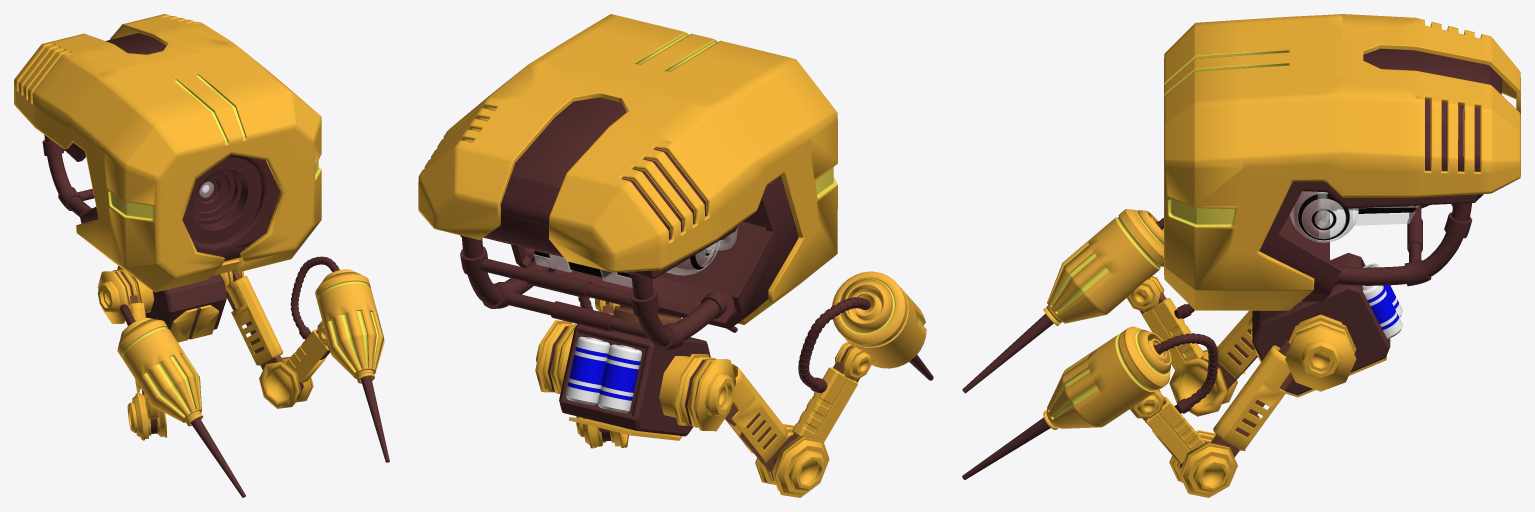
Rendered from robo.glb.
The picture shows the model from 3 angles, left to right: view 1: azimuth 30°, elevation 25°; view 2: azimuth 150°, elevation 25°; view 3: azimuth 270°, elevation 25°; orthographic projection. The views are drawn at different scales.
Visible parts, largest first — view 1: Head, Arm, Arm (2), Inner Head, Neck, Shoulder, Pipe; view 2: Head, Inner Head, Arm (2), Pipe, Neck, Shoulder, Battery, Gass, Arm; view 3: Head, Arm, Arm (2), Inner Head, Neck, Pipe, Gass, Shoulder, Battery.
Part boxes in pixels (x1,y1,x2,y2): Head: (14,14,321,292); Arm: (226,256,389,462); Arm (2): (97,281,245,497); Inner Head: (62,33,280,261); Neck: (117,266,226,342); Shoulder: (97,267,244,323); Pipe: (42,135,94,216); Head: (418,14,837,324); Inner Head: (483,97,798,328); Arm (2): (705,271,933,497); Pipe: (460,226,737,350); Neck: (559,305,710,440); Shoulder: (535,320,735,431); Battery: (565,336,641,413); Gass: (532,241,719,287); Arm: (536,296,737,448); Head: (1164,14,1520,310); Arm: (962,326,1341,497); Arm (2): (962,209,1257,416); Inner Head: (1259,48,1501,301); Neck: (1251,253,1390,397); Pipe: (1317,192,1472,286); Gass: (1290,191,1418,242); Shoulder: (1285,259,1356,391); Battery: (1362,263,1402,338).
Bounding box in the file's own units: 1.2 × 1.48 × 1.89.
